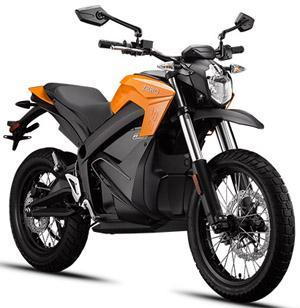motorbike: (3, 4, 295, 304)
